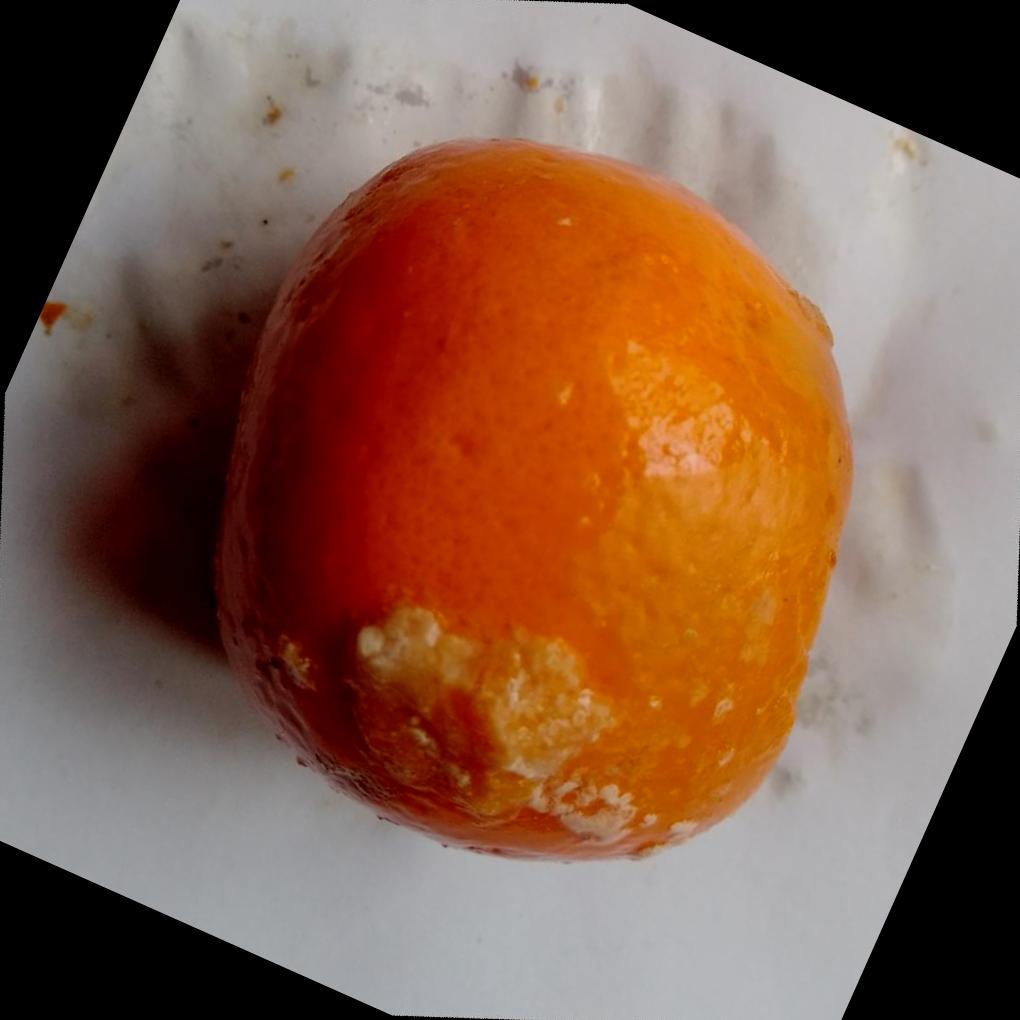FreshOrange: (207, 133, 853, 862)
